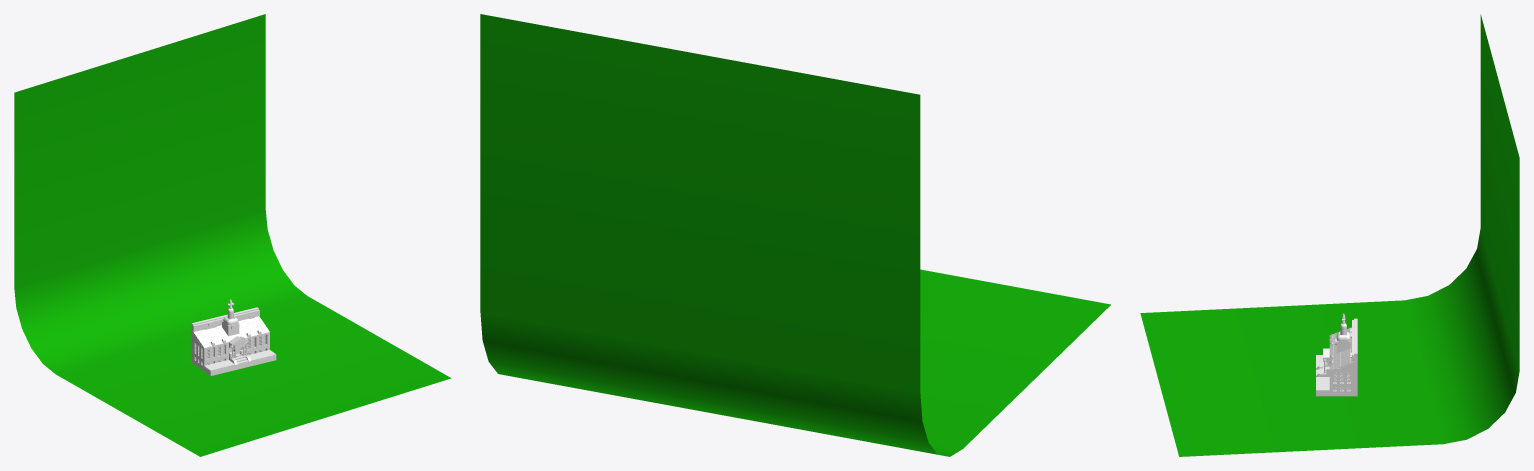
File: siena.glb
3 views of the same model, side by side, from view 1: azimuth 30°, elevation 25°; view 2: azimuth 150°, elevation 25°; view 3: azimuth 270°, elevation 25° (orthographic). The views are drawn at different scales.
Parts seen in each view (by area): view 1: Plane; view 2: Plane; view 3: Plane.
Part boxes in pixels (x1,y1,x2,y2): Plane: [14, 14, 451, 456]; Plane: [480, 14, 1110, 456]; Plane: [1140, 14, 1519, 456].
Size of the model in its own units: 28.29 by 23.26 by 28.29.
